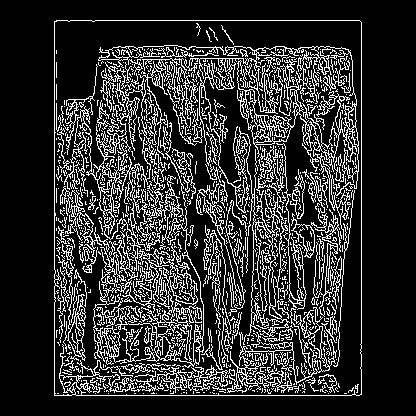buddha-sitting: (110, 226, 148, 282)
